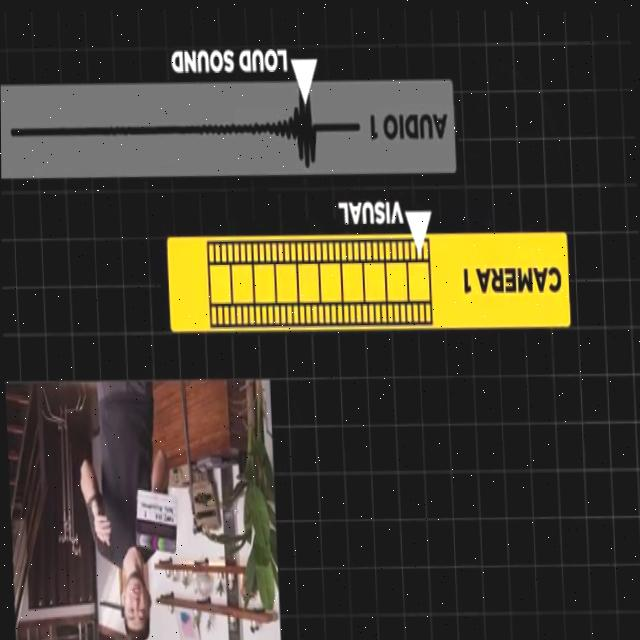Clapperboard: (136, 490, 178, 553)
